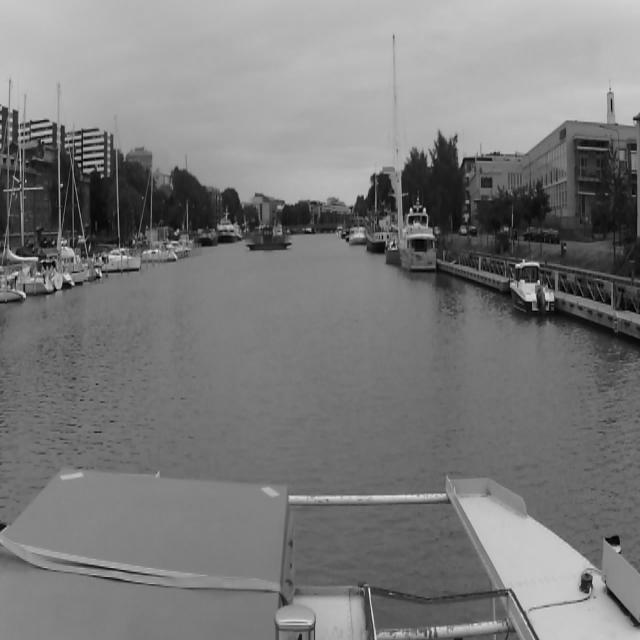ship: (0, 77, 53, 295), (96, 113, 140, 273), (383, 33, 401, 266), (140, 151, 176, 263), (401, 190, 437, 271), (510, 260, 554, 316), (244, 223, 292, 252), (365, 207, 382, 250), (348, 215, 364, 244), (199, 227, 219, 246)
